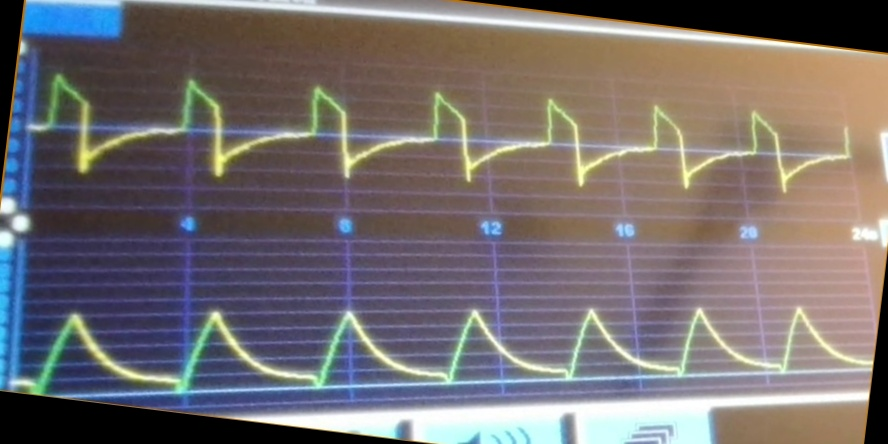Flow: (35, 71, 853, 203)
Leakage Volume: (18, 301, 868, 397)
